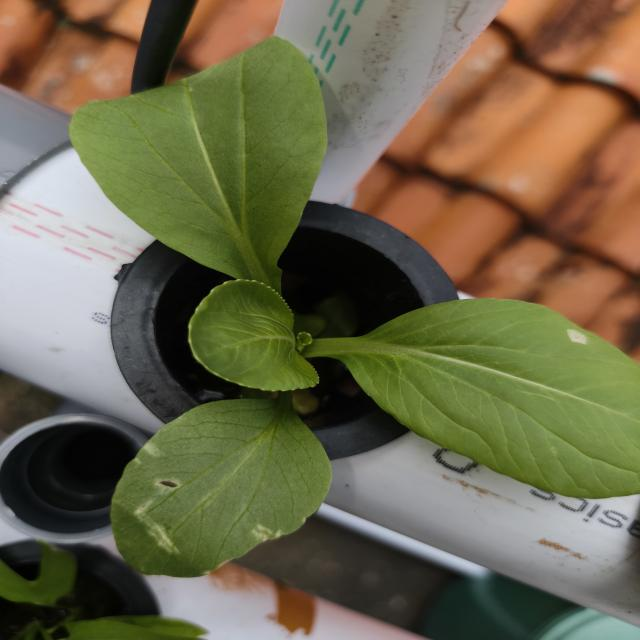daun-pakcoy: (70, 37, 326, 293), (350, 299, 640, 498), (111, 392, 331, 577), (188, 280, 319, 391)
